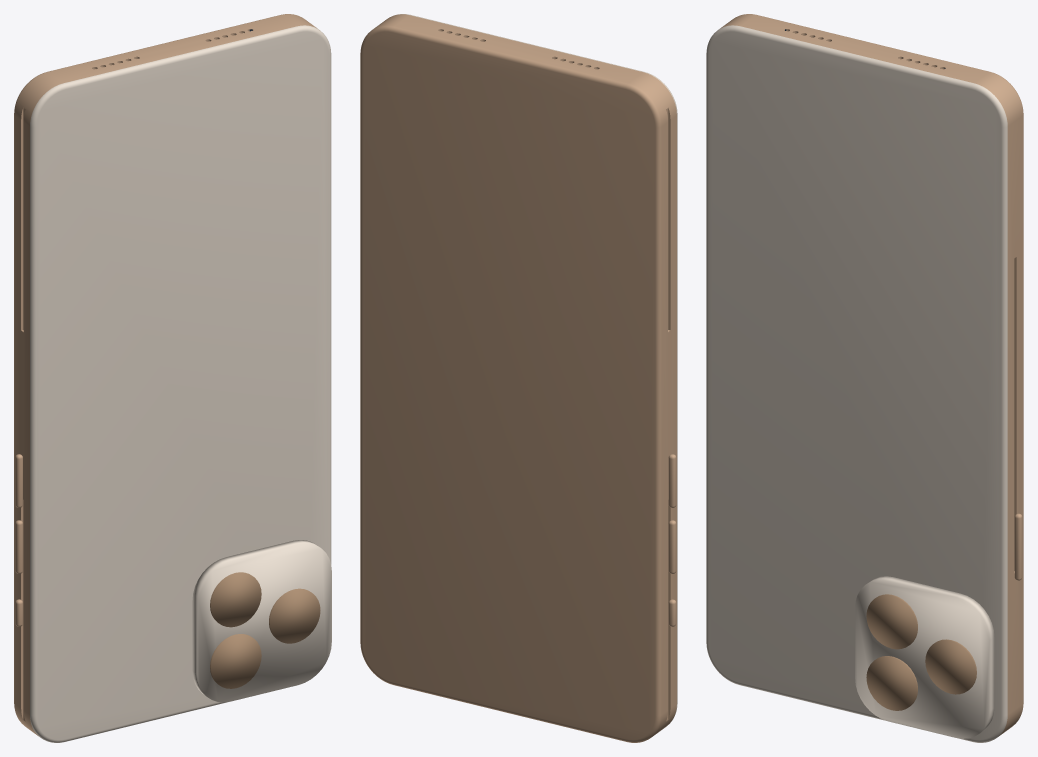
The model's file is iphone_penny_v2.glb.
3 views of the same model, side by side, from view 1: azimuth 30°, elevation 25°; view 2: azimuth 150°, elevation 25°; view 3: azimuth 330°, elevation 25° (orthographic).
Visible parts, largest first — view 1: frame, camera_bump, ring_wide, ring_telephoto, ring_ultrawide; view 2: frame; view 3: frame, camera_bump, ring_wide, ring_telephoto, ring_ultrawide, power.
Boxes of the visible parts, x1,y1,x2,y2 form: frame: (14,14,331,742); camera_bump: (192,540,331,702); ring_wide: (210,572,261,627); ring_telephoto: (210,634,261,688); ring_ultrawide: (269,588,320,643); frame: (360,14,677,742); frame: (706,14,1023,742); camera_bump: (855,576,994,738); ring_wide: (866,594,917,649); ring_telephoto: (866,656,917,710); ring_ultrawide: (925,639,976,694); power: (1014,513,1022,580).
Size of the model in its own units: 0.0745 by 0.1496 by 0.0118.
6 materials, 1 textured.
